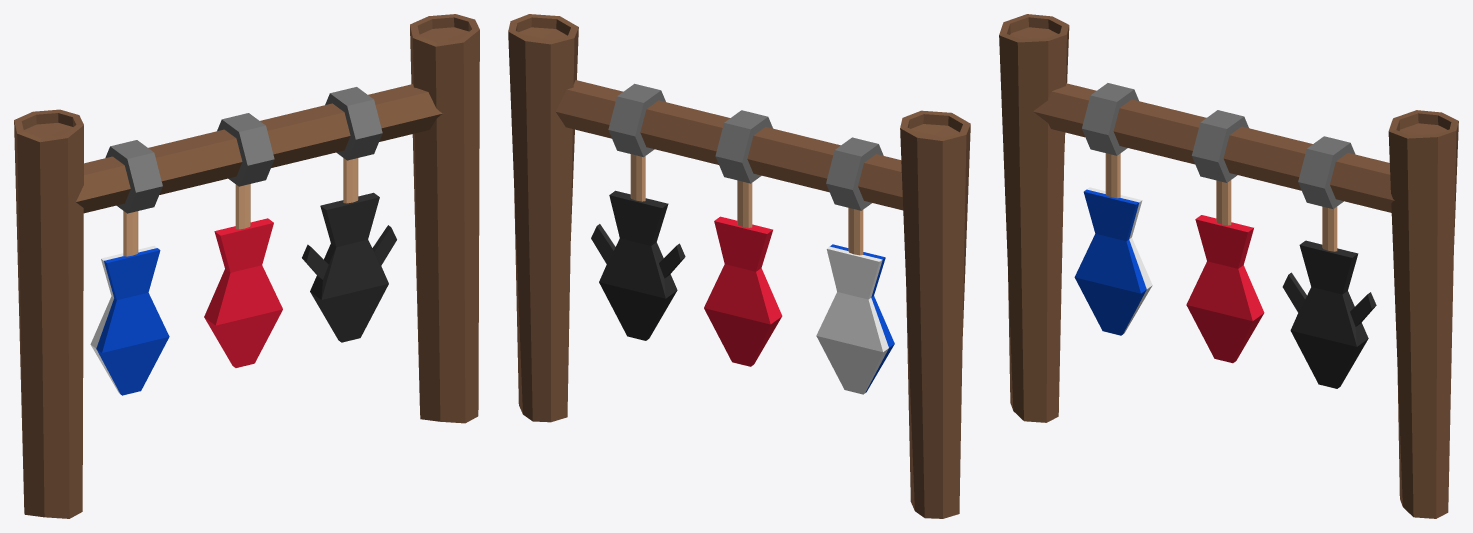
The model's file is FIsh stand.fbx.
The picture shows the model from 3 angles, left to right: view 1: azimuth 30°, elevation 25°; view 2: azimuth 150°, elevation 25°; view 3: azimuth 330°, elevation 25°; orthographic projection.
Parts seen in each view (by area): view 1: Fish stand; view 2: Fish stand; view 3: Fish stand.
Part boxes in pixels (x1,y1,x2,y2): Fish stand: [14, 14, 479, 518]; Fish stand: [508, 14, 970, 518]; Fish stand: [999, 14, 1458, 518].
Size of the model in its own units: 390 by 314 by 55.17.
